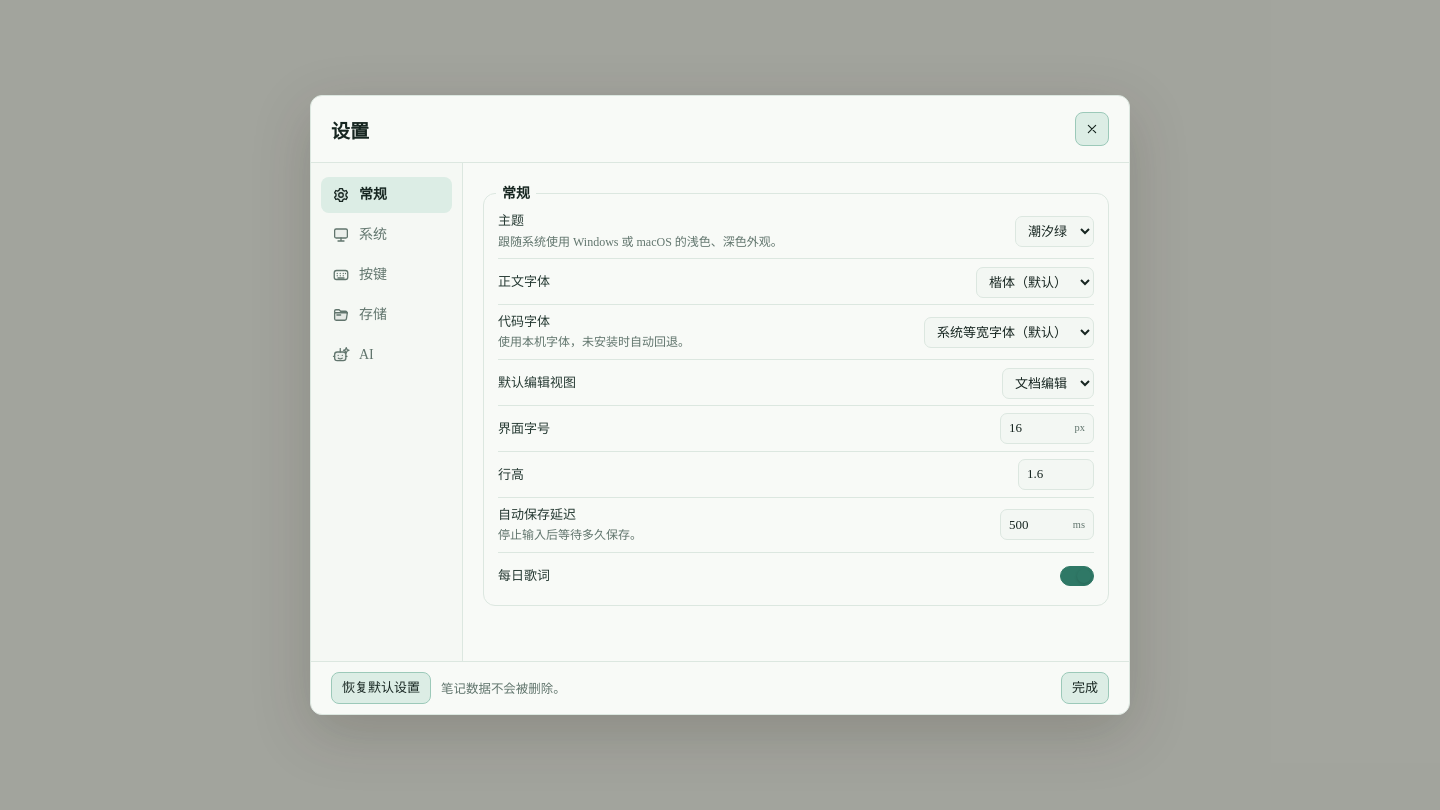
Scenario: SettingsView › shows native shortcut labels and suspends capture until recording finishes
Click the tab "按键": click(386, 275) x1=321 y1=257 x2=452 y2=293
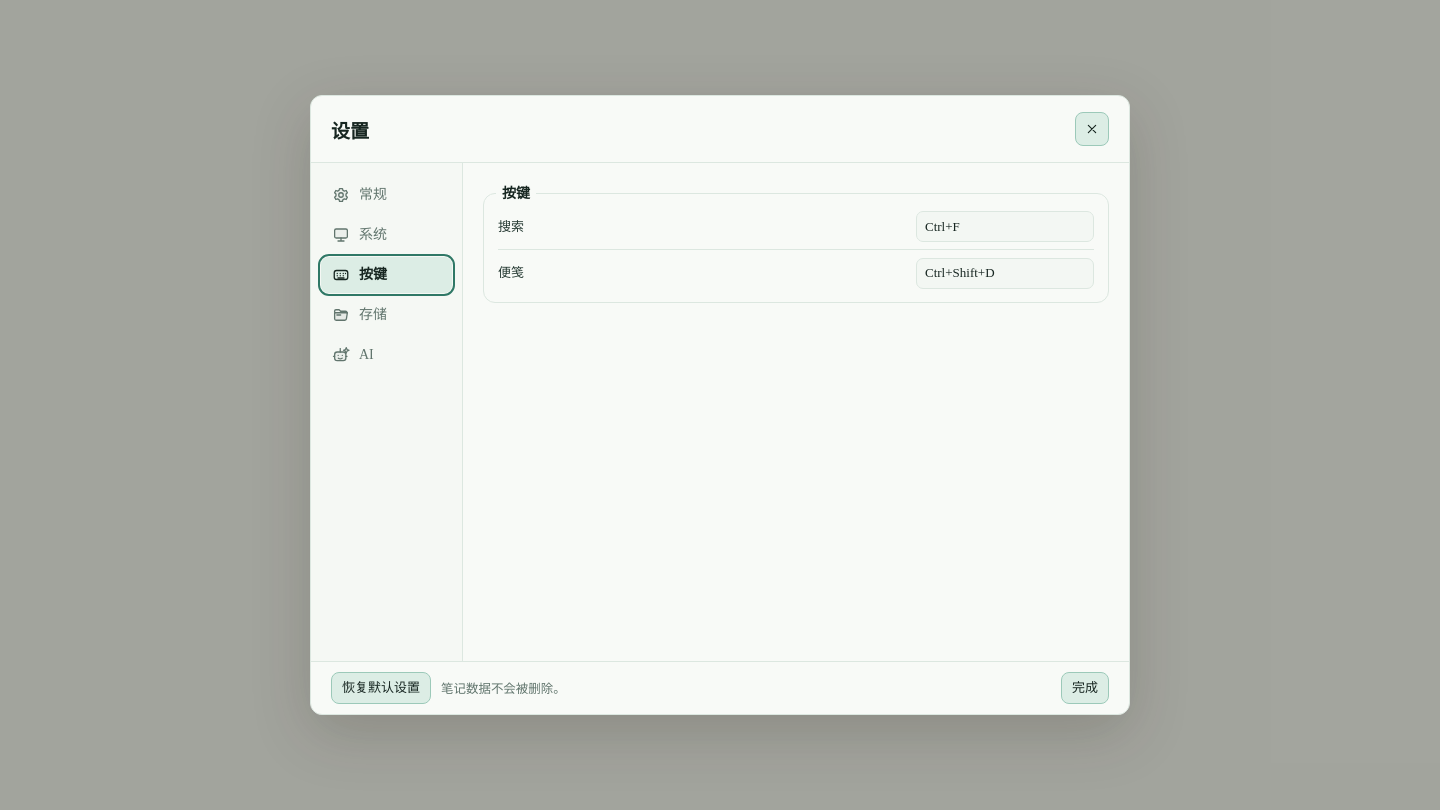
Check: the field named "便笺快捷键" holds "Ctrl+Shift+D"
Click the field named "便笺快捷键": click(1005, 273) x1=916 y1=258 x2=1094 y2=288
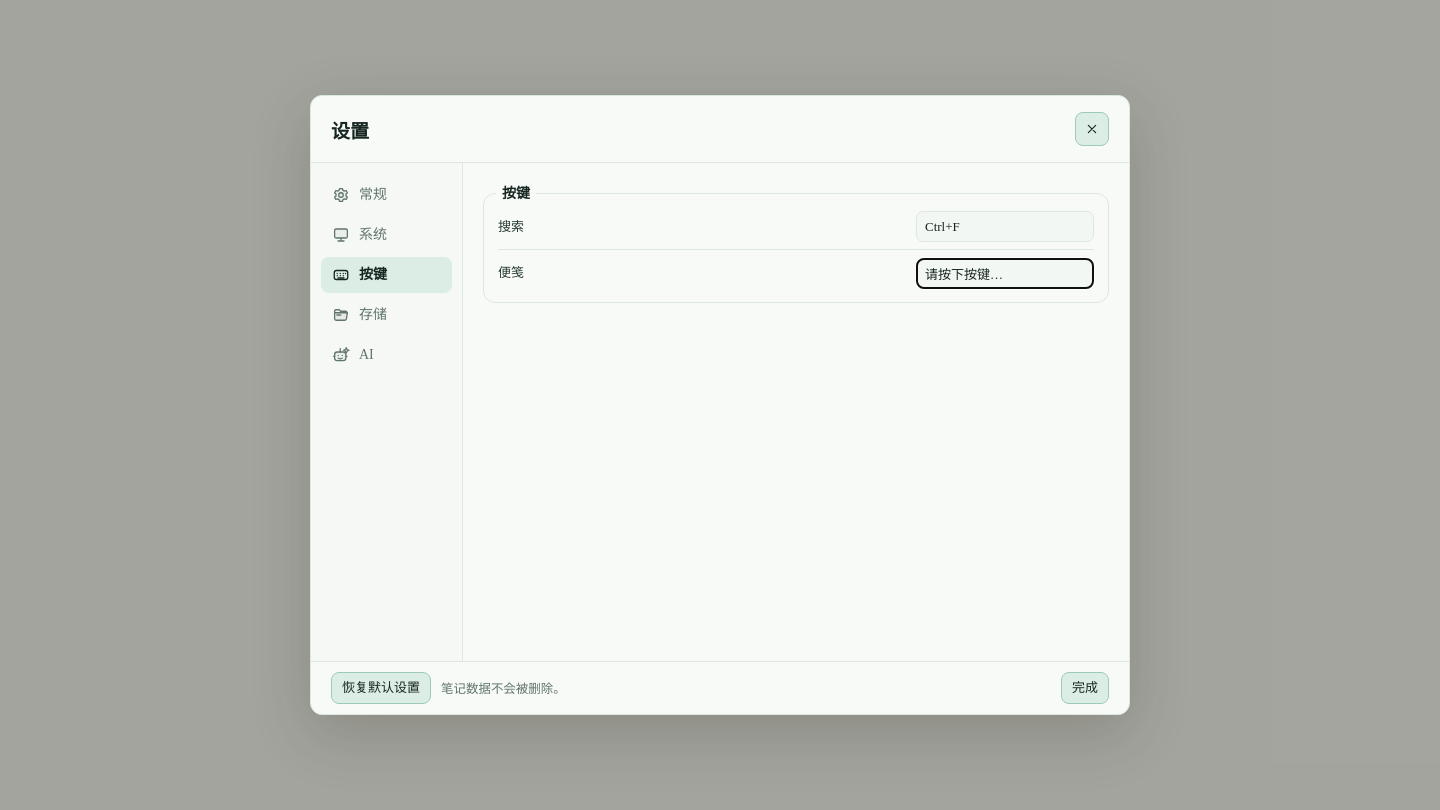
Press Escape
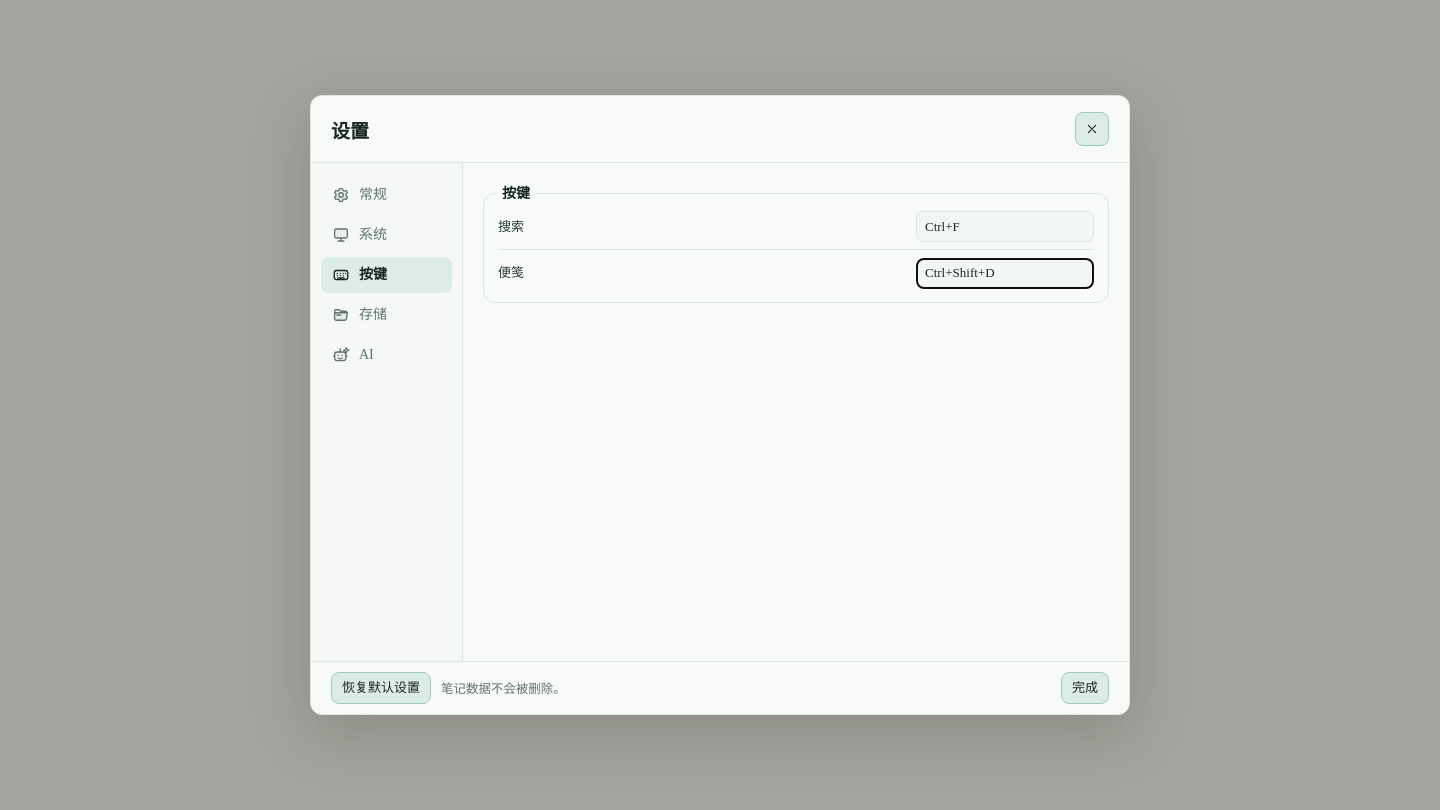
Check: the field named "便笺快捷键" holds "Ctrl+Shift+D", box x1=916 y1=258 x2=1094 y2=288
